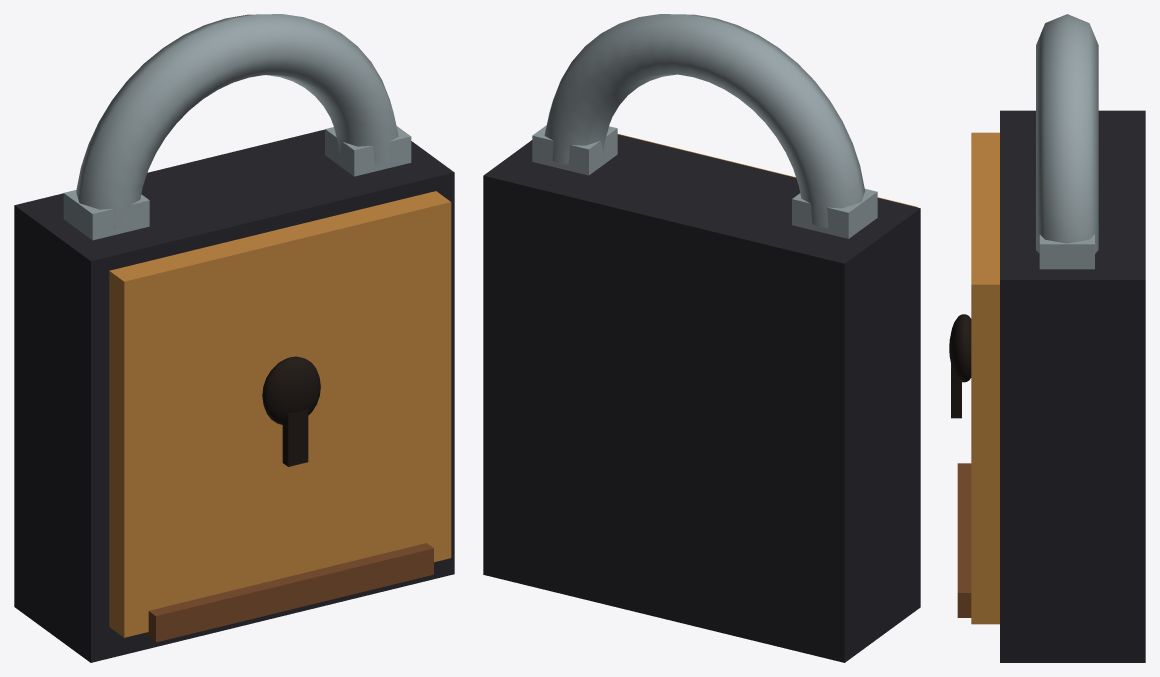
Rendered from mia-padlock.glb.
The picture shows the model from 3 angles, left to right: view 1: azimuth 30°, elevation 25°; view 2: azimuth 150°, elevation 25°; view 3: azimuth 270°, elevation 25°; orthographic projection. The views are drawn at different scales.
Parts seen in each view (by area): view 1: Body_brass, Body_iron, Body_steel, Body_rust, Body_black; view 2: Body_iron, Body_steel; view 3: Body_iron, Body_steel, Body_brass, Body_rust, Body_black.
Boxes of the visible parts, x1,y1,x2,y2 form: Body_brass: (109,191,451,637); Body_iron: (14,129,454,662); Body_steel: (63,14,411,240); Body_rust: (145,543,433,642); Body_black: (262,356,320,466); Body_iron: (483,134,920,662); Body_steel: (532,14,877,238); Body_iron: (1000,110,1145,662); Body_steel: (1036,14,1098,269); Body_brass: (971,132,999,624); Body_rust: (957,463,971,617); Body_black: (949,314,971,418).
Bounding box in the file's own units: 0.217 × 0.3275 × 0.1065.
